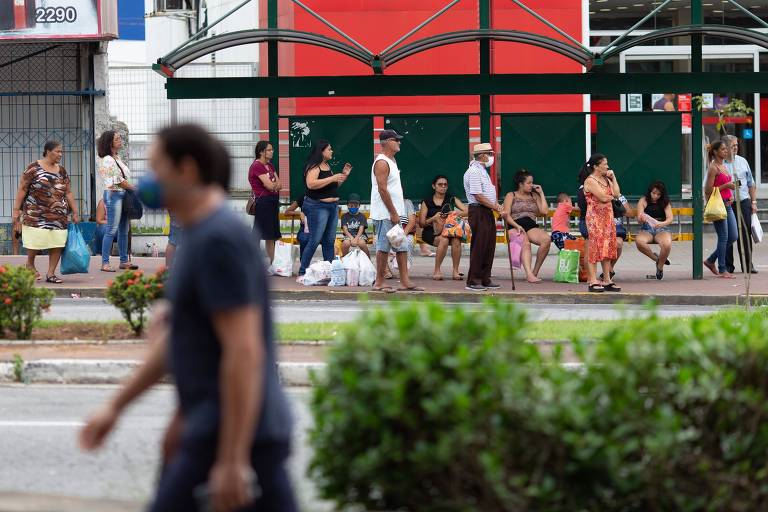with_mask: (473, 149, 494, 168)
without_mask: (254, 144, 276, 161), (518, 176, 537, 192), (46, 144, 62, 162), (647, 189, 661, 204), (713, 147, 728, 161), (321, 144, 334, 159), (434, 179, 447, 193), (728, 138, 739, 154)
